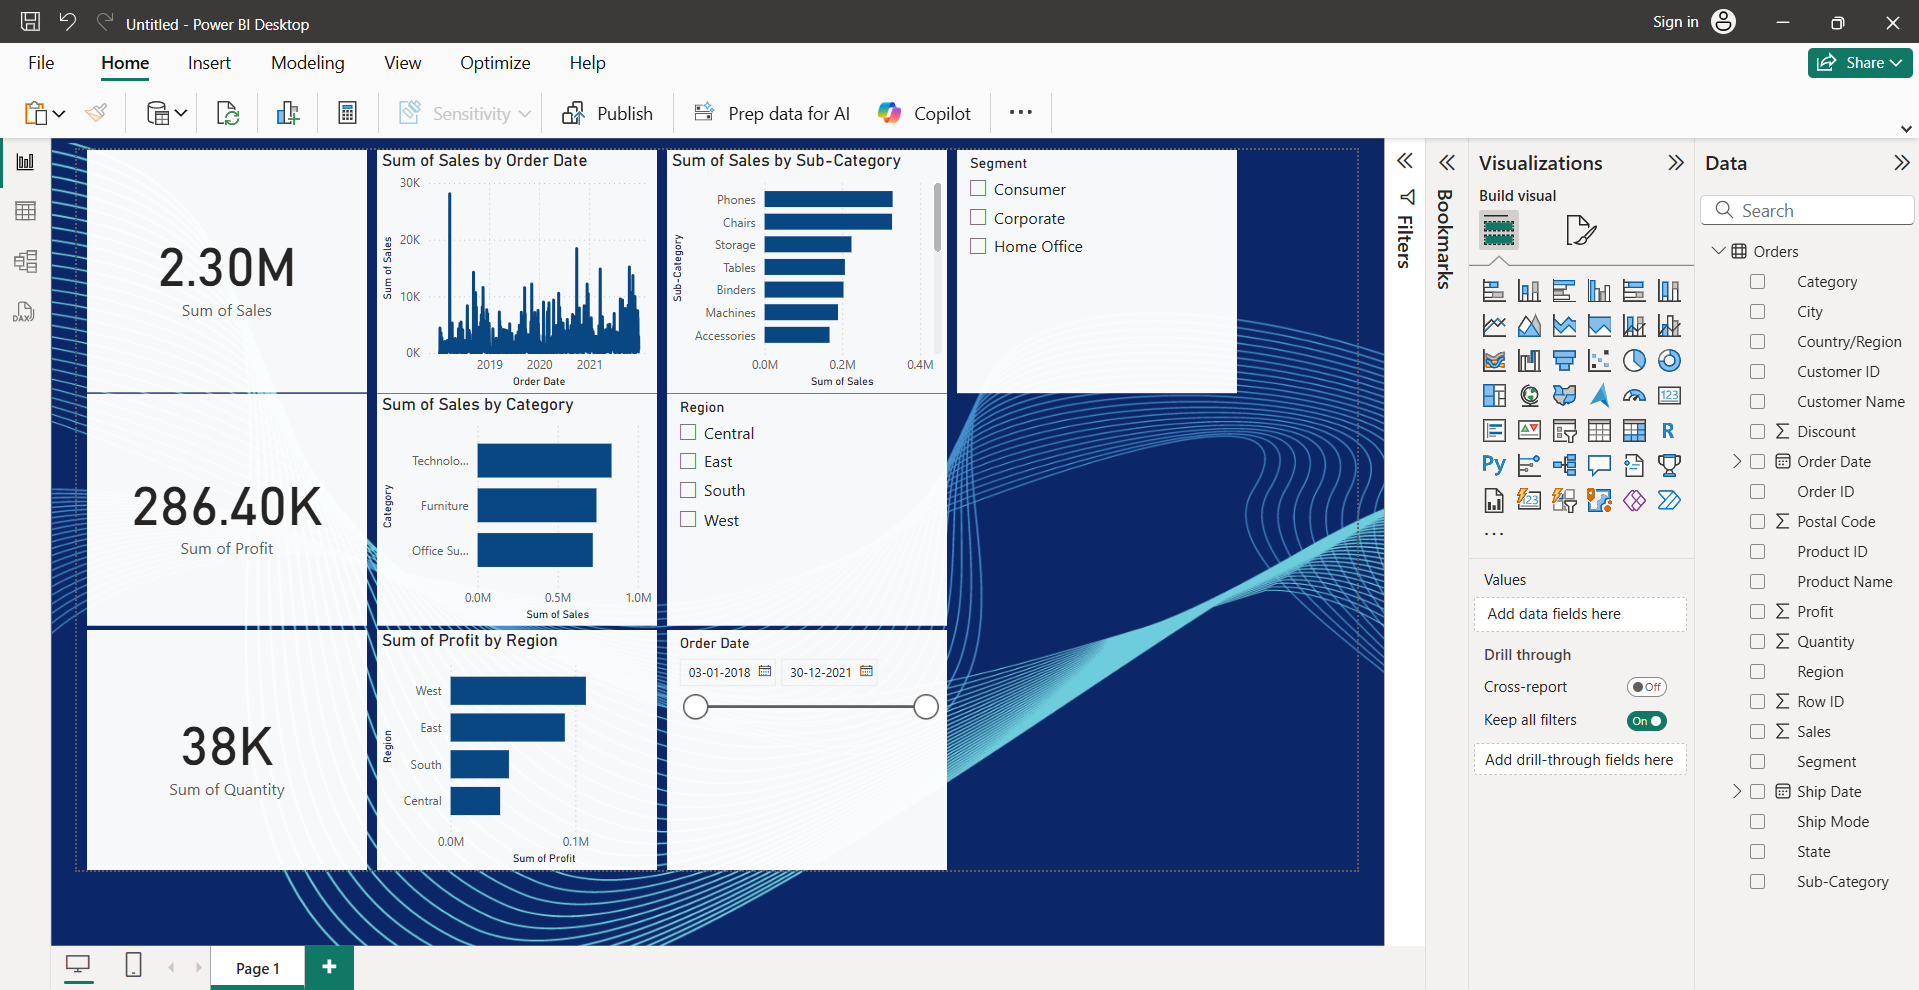

The page's visual inventory and layout, read from the dashboard file:
{"tool":"powerbi","page":{"name":"Page 1","canvas":[1280,720],"ordinal":0},"visuals":[{"type":"card","fields":{"Values":["Sum(Orders.Sales)"]},"box":[0,0,375.7,210],"z":0},{"type":"card","fields":{"Values":["Sum(Orders.Profit)"]},"box":[446.7,0,388.3,210],"z":1000},{"type":"card","fields":{"Values":["Sum(Orders.Quantity)"]},"box":[915.7,0,364.3,210],"z":2000},{"type":"lineChart","fields":{"Y":["Sum(Orders.Sales)"],"Category":["Orders.Order Date"]},"box":[968.8,431.2,311.2,288.8],"z":3000},{"type":"clusteredBarChart","fields":{"Category":["Orders.Category"],"Y":["Sum(Orders.Sales)"]},"box":[0,431.2,321.2,288.8],"z":4000},{"type":"clusteredBarChart","fields":{"Y":["Sum(Orders.Profit)"],"Category":["Orders.Region"]},"box":[321.2,431.2,318.8,288.8],"z":5000},{"type":"clusteredBarChart","fields":{"Y":["Sum(Orders.Sales)"],"Category":["Orders.Sub-Category"]},"box":[640,431.2,328.8,288.8],"z":6000},{"type":"slicer","fields":{"Values":["Orders.Region"]},"box":[968.3,191.7,311.7,180],"z":7000},{"type":"slicer","title":"Order Date","fields":{"Values":["Orders.Order Date"]},"box":[488.3,191.7,436.7,240],"z":8000},{"type":"slicer","fields":{"Values":["Orders.Segment"]},"box":[0,192,435,203],"z":9000}]}

Visuals, with their boxes on the page's 1280x720 design canvas (x1, y1, x2, y2). These are canvas units, not pixel positions in the 1919x990 screenshot, which may show the page scaled, cropped or inside an application window:
card - Sum(Orders.Sales): Rect(0, 0, 376, 210)
card - Sum(Orders.Profit): Rect(447, 0, 835, 210)
card - Sum(Orders.Quantity): Rect(916, 0, 1280, 210)
lineChart - Sum(Orders.Sales) x Orders.Order Date: Rect(969, 431, 1280, 720)
clusteredBarChart - Orders.Category x Sum(Orders.Sales): Rect(0, 431, 321, 720)
clusteredBarChart - Sum(Orders.Profit) x Orders.Region: Rect(321, 431, 640, 720)
clusteredBarChart - Sum(Orders.Sales) x Orders.Sub-Category: Rect(640, 431, 969, 720)
slicer - Orders.Region: Rect(968, 192, 1280, 372)
"Order Date" slicer: Rect(488, 192, 925, 432)
slicer - Orders.Segment: Rect(0, 192, 435, 395)
